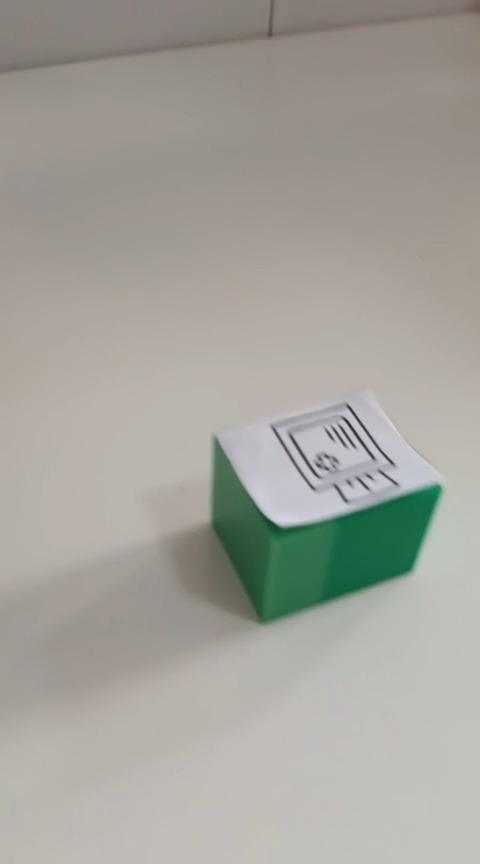Gauze: (208, 387, 444, 624)
